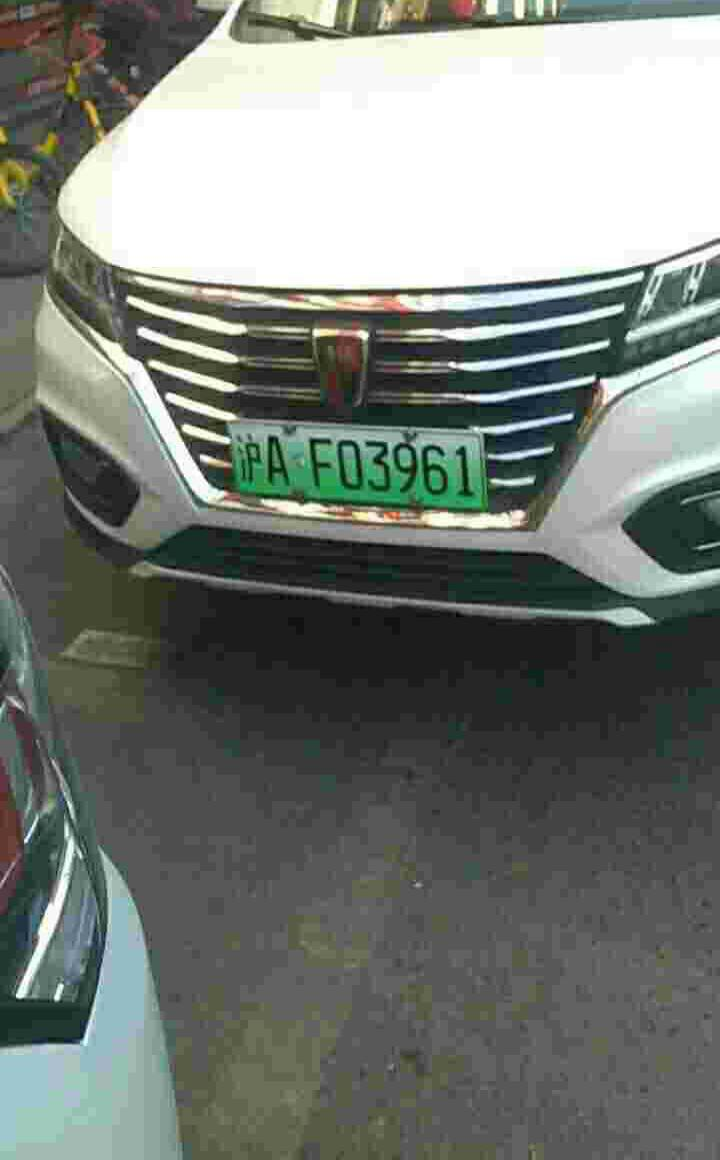car_green: (225, 411, 492, 519)
